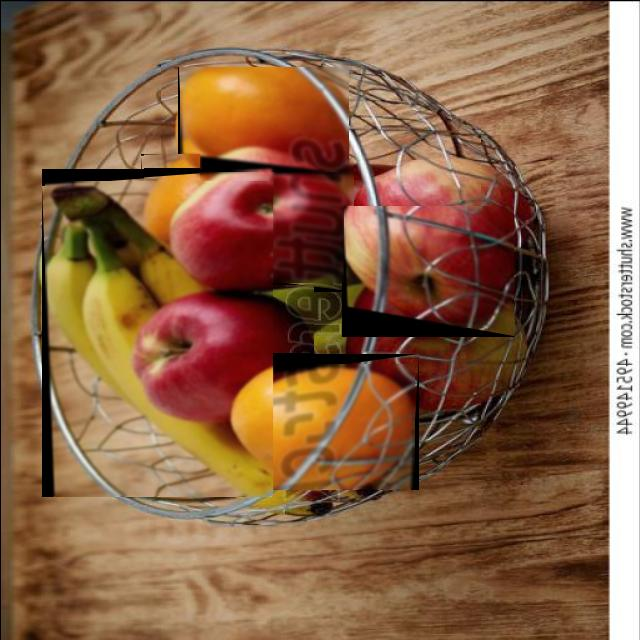0: (131, 286, 313, 412)
1: (44, 181, 271, 496)
2: (223, 364, 414, 489)
Apple: (171, 158, 352, 283), (343, 206, 513, 328)
Orange: (179, 67, 348, 172), (143, 154, 199, 246)
